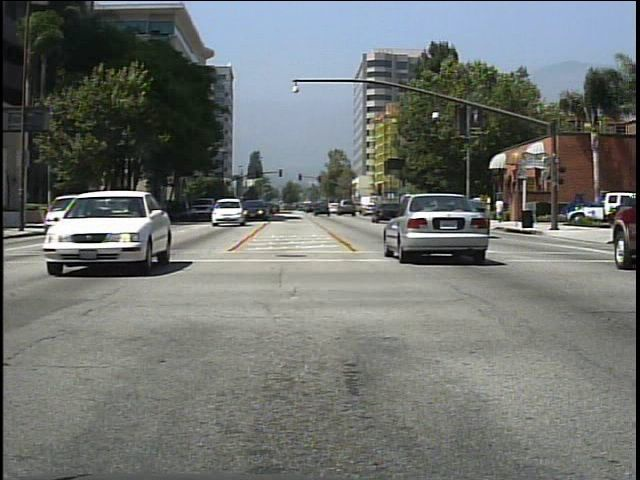person: (492, 192, 511, 229), (451, 193, 468, 229)
